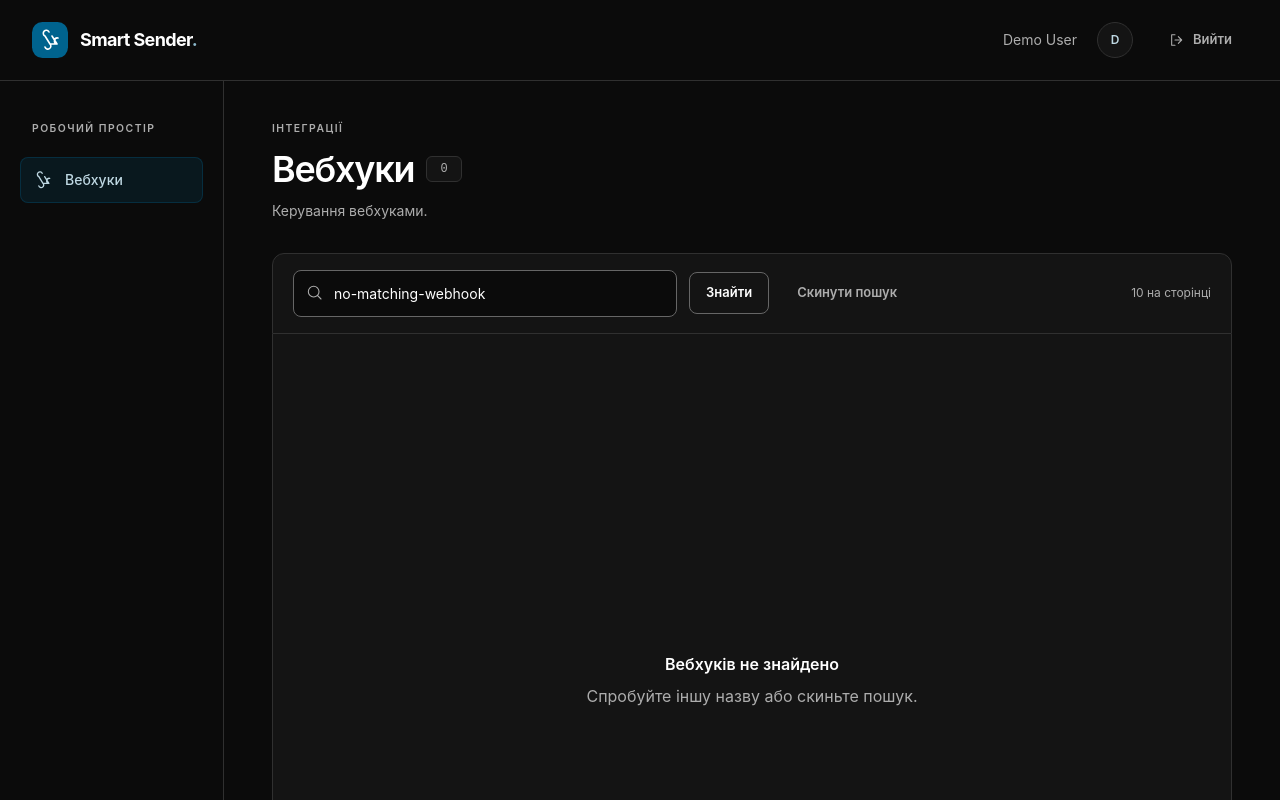
Scenario: no matches show the empty state and allow clearing the search
This screenshot has width=1280, height=800.
Expected: the heading "Вебхуки" is shown, [272,149,414,189]
Expected: the heading "Вебхуків не знайдено" is shown, [665,652,839,676]
Click the button "Скинути пошук". click: (847, 293)
box: [781,273,913,313]
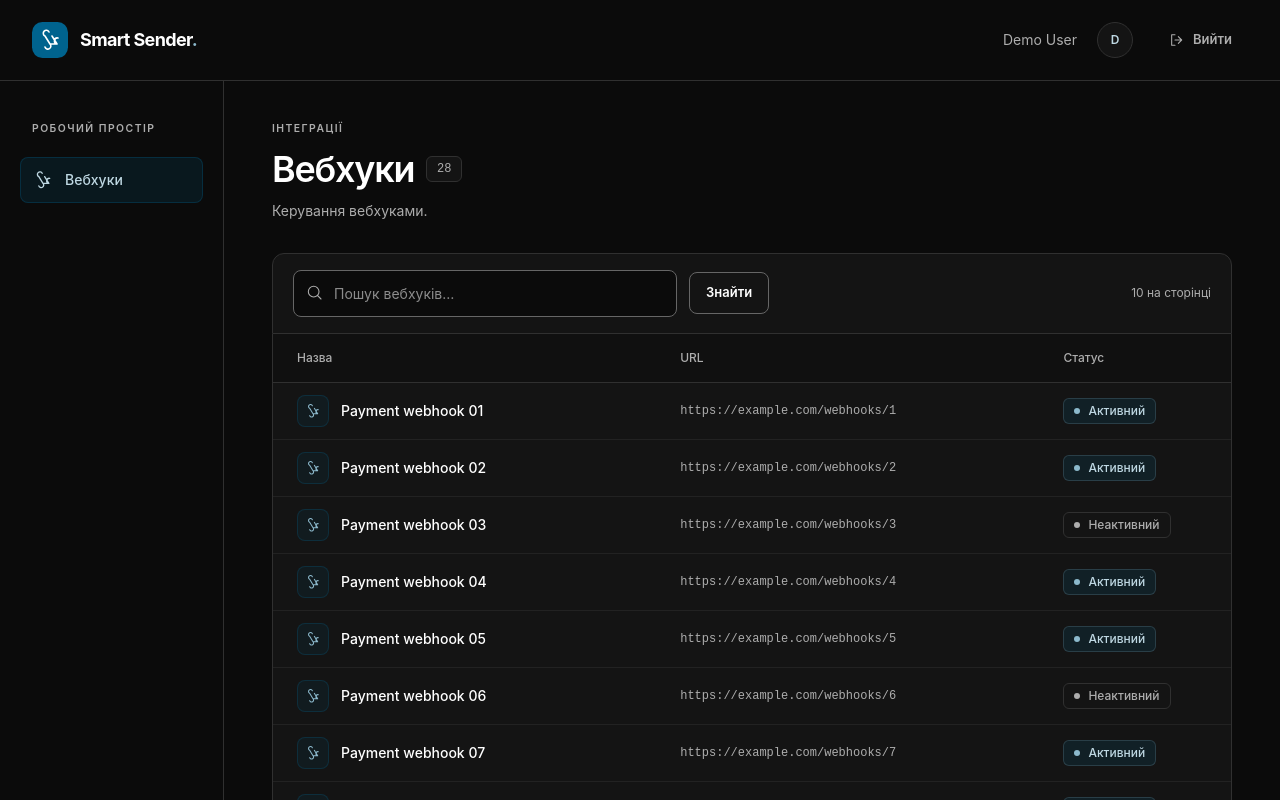
Expected: the link "Payment webhook 01" is shown, [297,395,509,427]
